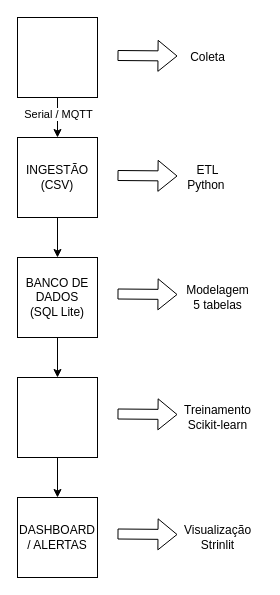
The diagram is 280 pixels wide and 595 high, and some of its shapes have lost their labels. Here are the shapes that lost their labels. From the top down, the box of each, then its label:
(16, 16, 98, 98): ESP 32 (Wokwi)
(16, 376, 98, 458): MODELO ML Random Forest
